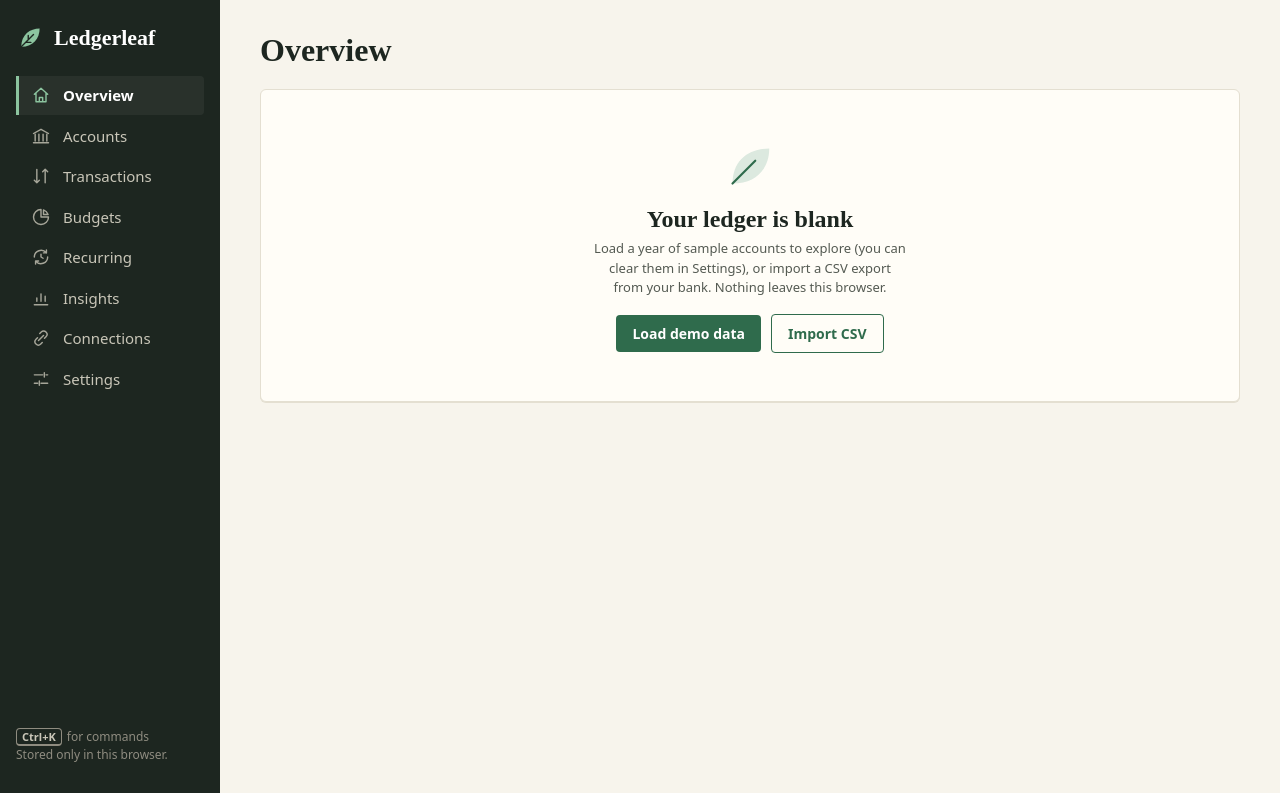
Test case: command palette › moves with the arrow keys and runs the selection on Enter
Step 1. Type keys "{Control>}k{/Control}"
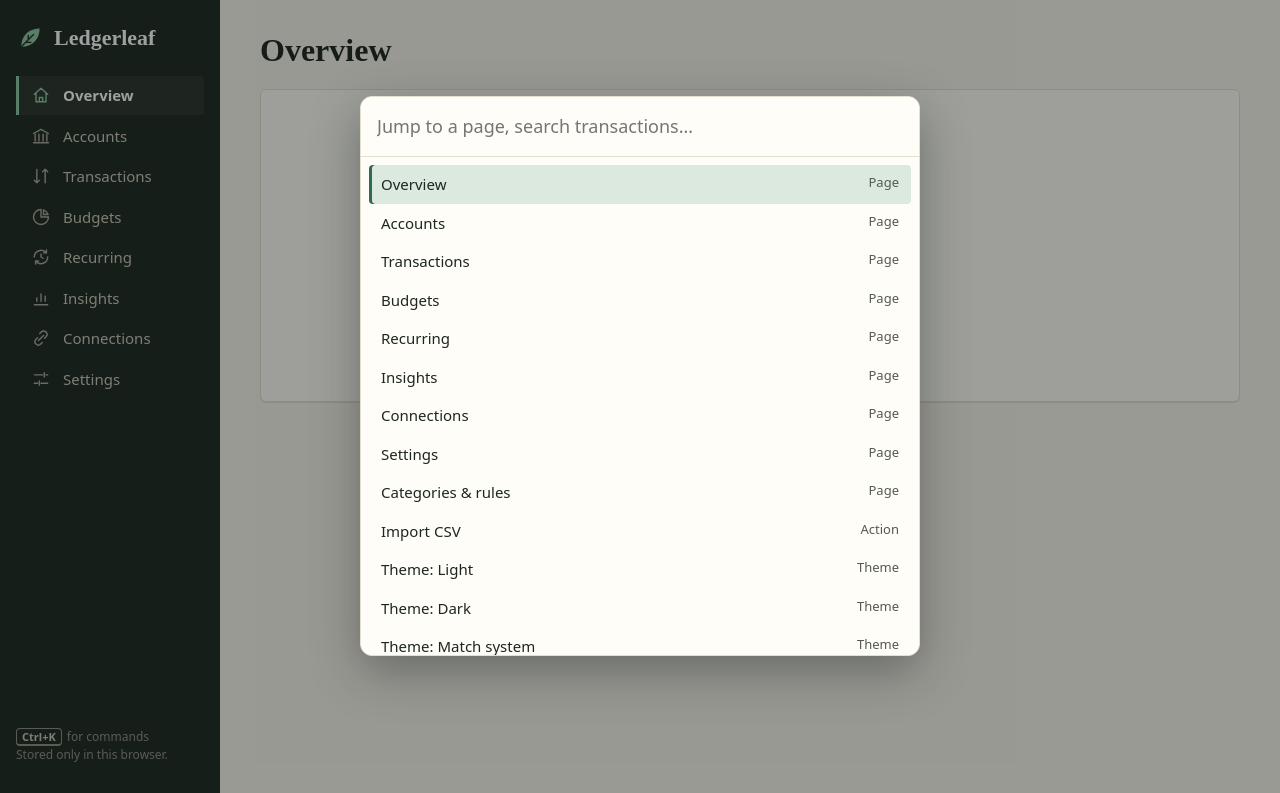
Step 2. Type "ion" into the dropdown named "Search commands" → (640, 127), box [361,97,919,157]
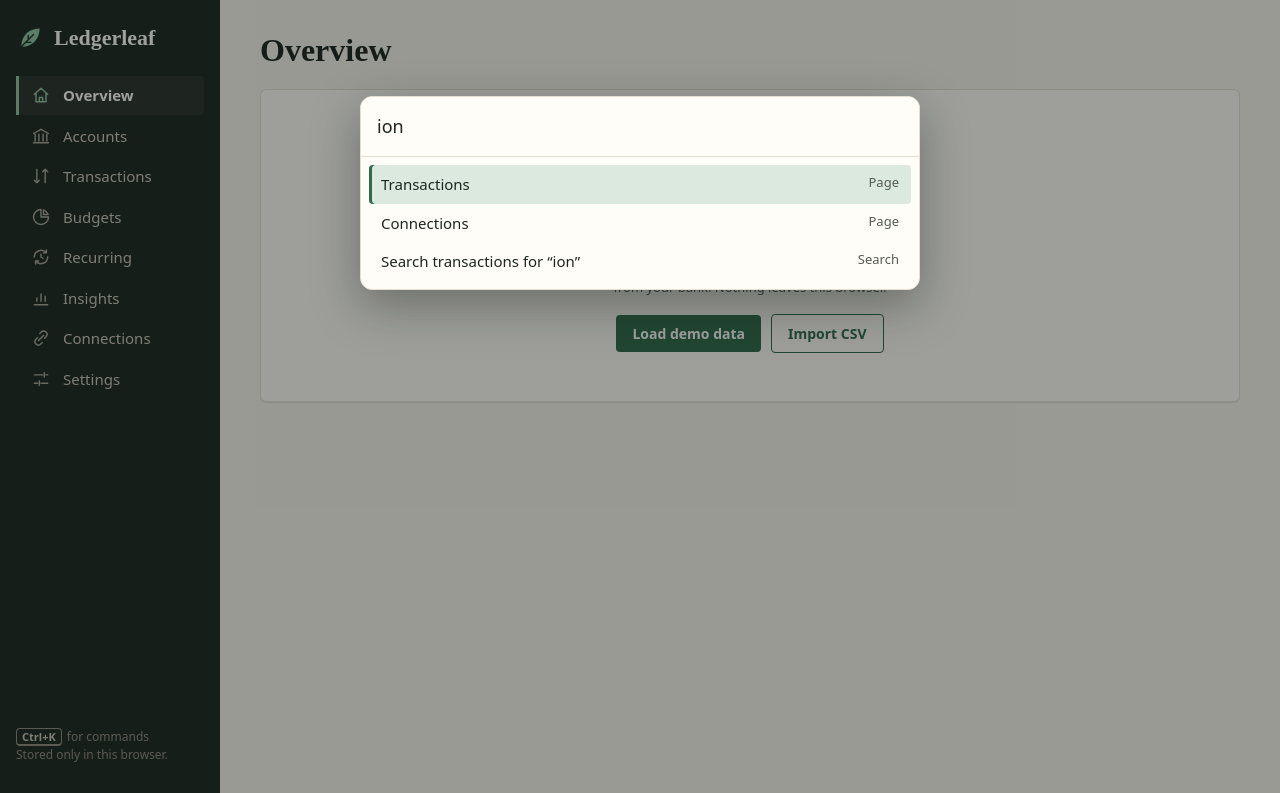
Now the option "Transactions Page" is shown, box [369,165,911,204]
Step 3. Press Arrowup
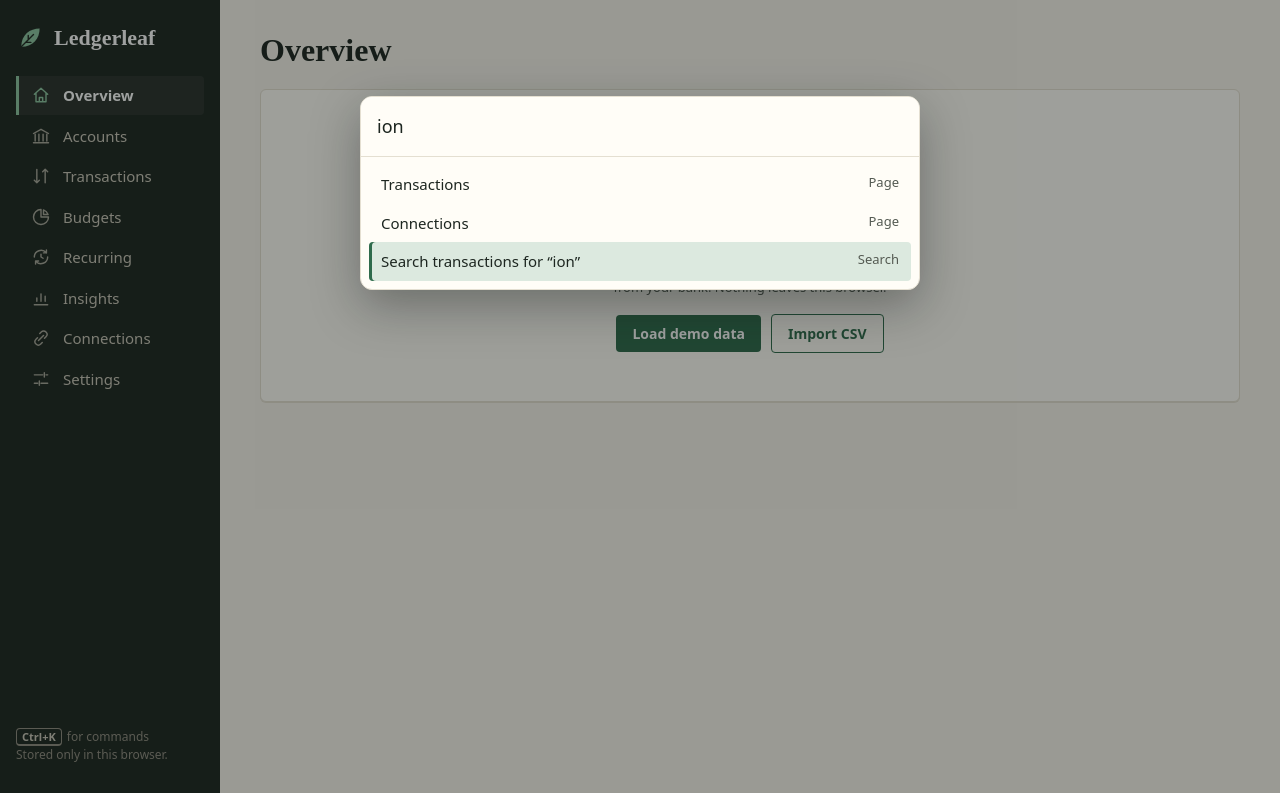
Now the option "Search transactions for “ion” Search" is shown, box [369,242,911,280]
Step 4. Press Arrowdown Arrowdown
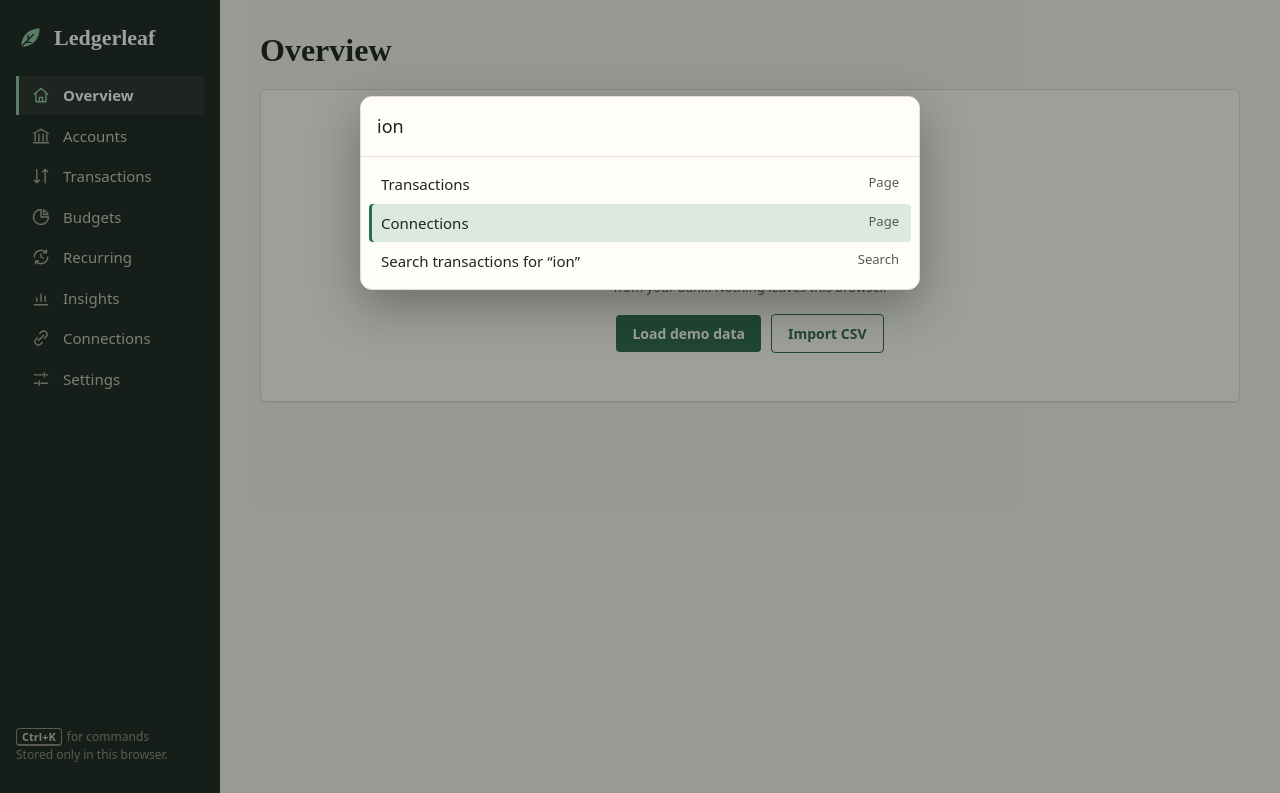
Now the option "Connections Page" is shown, box [369,204,911,242]
Step 5. Press Enter
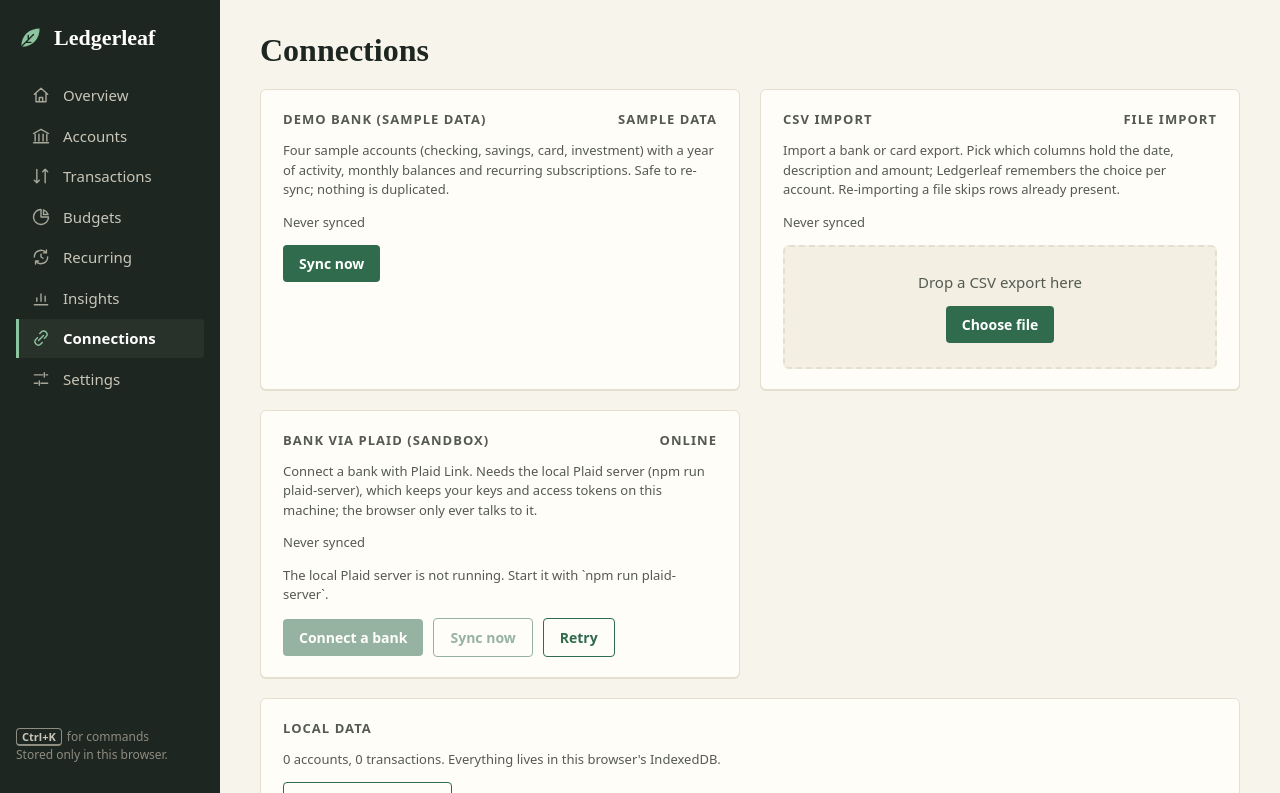
Now the dialog "Command palette" is gone
Now the heading "Connections" is shown, box [260,32,429,68]
